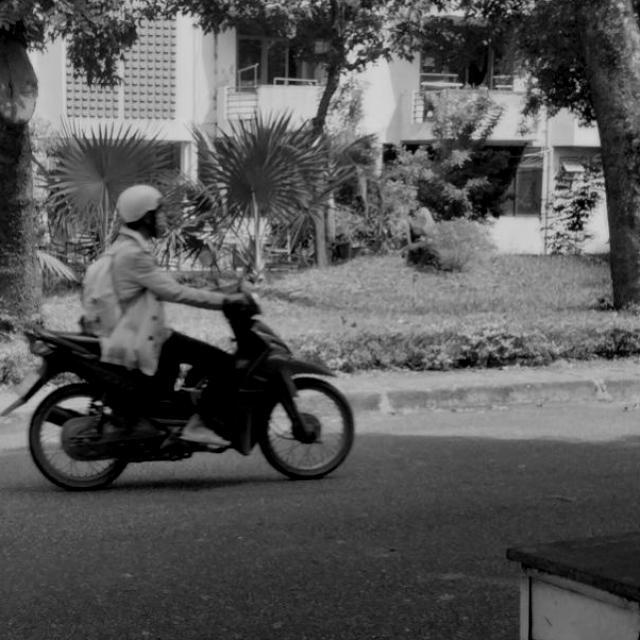Helmet: (115, 184, 173, 240)
